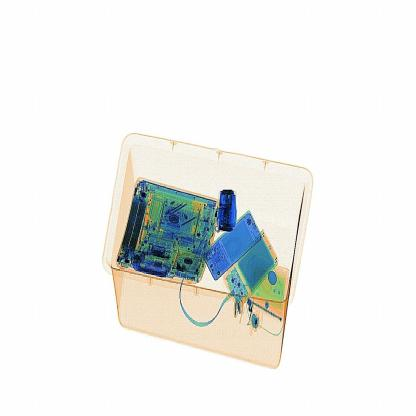scissors: (215, 183, 240, 236)
